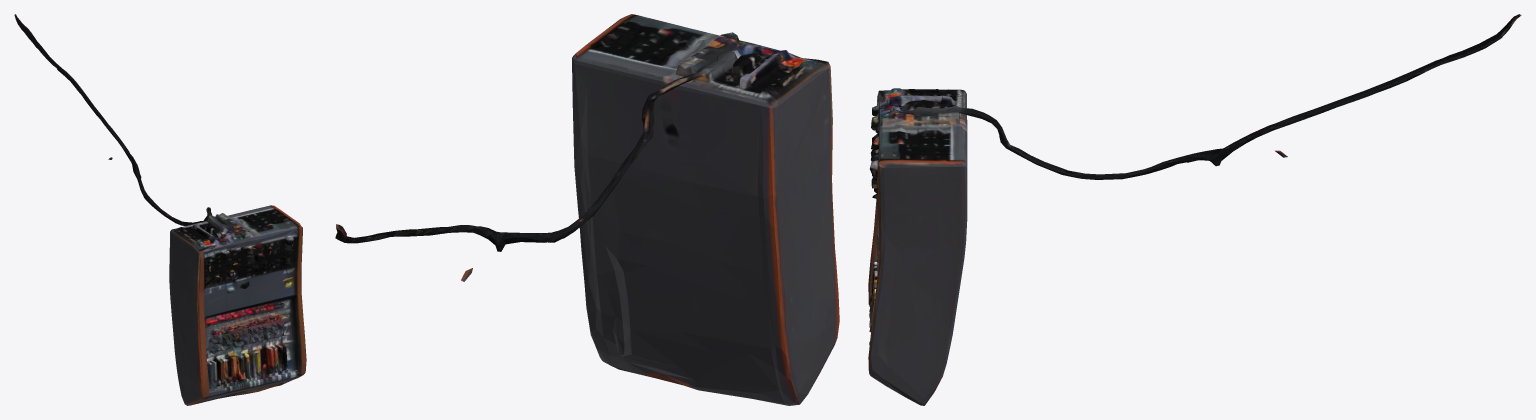
The model's file is mixing_console.glb.
3 renders of one model, left to right at view 1: azimuth 30°, elevation 25°; view 2: azimuth 150°, elevation 25°; view 3: azimuth 270°, elevation 25°, orthographic. The views are drawn at different scales.
Parts seen in each view (by area): view 1: textured_mesh.obj; view 2: textured_mesh.obj; view 3: textured_mesh.obj.
Boxes of the visible parts, x1,y1,x2,y2 form: textured_mesh.obj: (14,14,306,405); textured_mesh.obj: (335,14,839,405); textured_mesh.obj: (868,14,1521,405).
Size of the model in its own units: 0.5618 by 1.2 by 2.04.
1 material, 1 textured.
